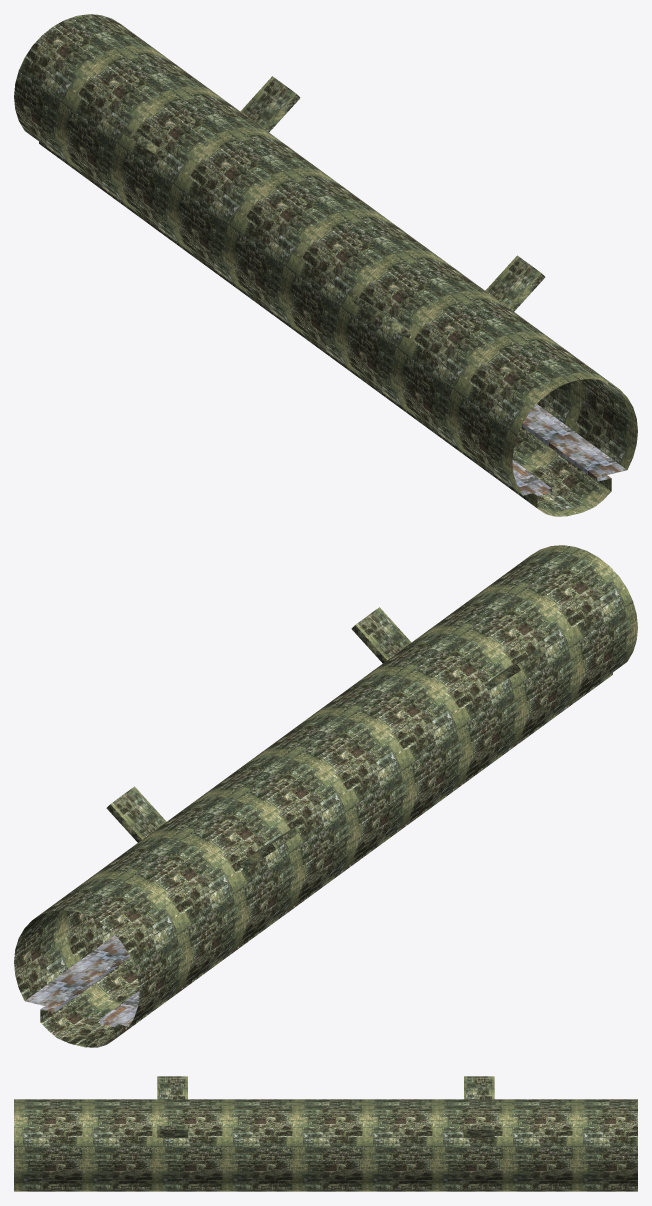
File: Sewer_Straight.FBX
The picture shows the model from 3 angles, top to bottom: view 1: azimuth 30°, elevation 25°; view 2: azimuth 150°, elevation 25°; view 3: azimuth 270°, elevation 25°; orthographic projection. The views are drawn at different scales.
Visible parts, largest first — view 1: Sewer_Straight; view 2: Sewer_Straight; view 3: Sewer_Straight.
Boxes of the visible parts, x1,y1,x2,y2 form: Sewer_Straight: [14, 14, 637, 516]; Sewer_Straight: [14, 545, 637, 1047]; Sewer_Straight: [14, 1076, 637, 1191].
Bounding box in the file's own units: 801 × 619 × 4070.
2 materials, 2 textured.
